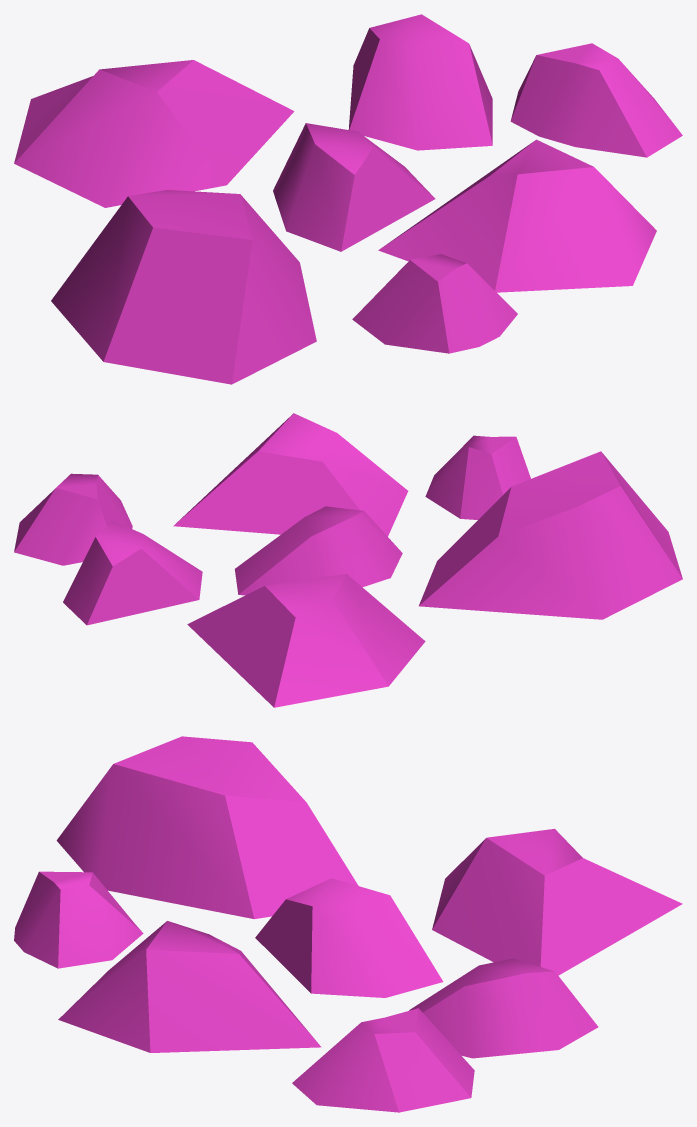
Rendered from Rubble01_mesh.fbx.
The picture shows the model from 3 angles, top to bottom: view 1: azimuth 30°, elevation 25°; view 2: azimuth 150°, elevation 25°; view 3: azimuth 270°, elevation 25°; orthographic projection. The views are drawn at different scales.
Visible parts, largest first — view 1: Rubble01_mesh; view 2: Rubble01_mesh; view 3: Rubble01_mesh.
Boxes of the visible parts, x1,y1,x2,y2 form: Rubble01_mesh: (14, 14, 682, 384); Rubble01_mesh: (14, 413, 682, 707); Rubble01_mesh: (14, 736, 682, 1112).
Size of the model in its own units: 127 by 19.37 by 118.
